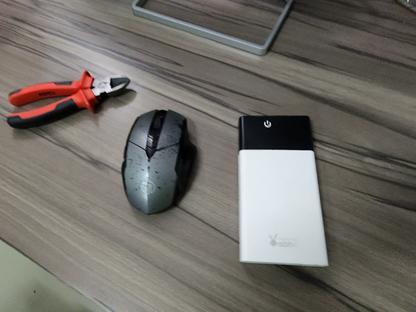mouse: (119, 108, 199, 216)
